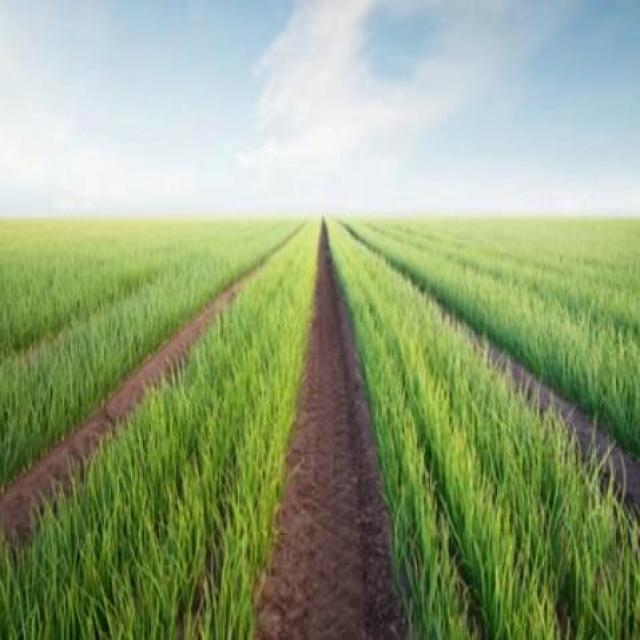row: (0, 238, 286, 566), (245, 227, 415, 640)
